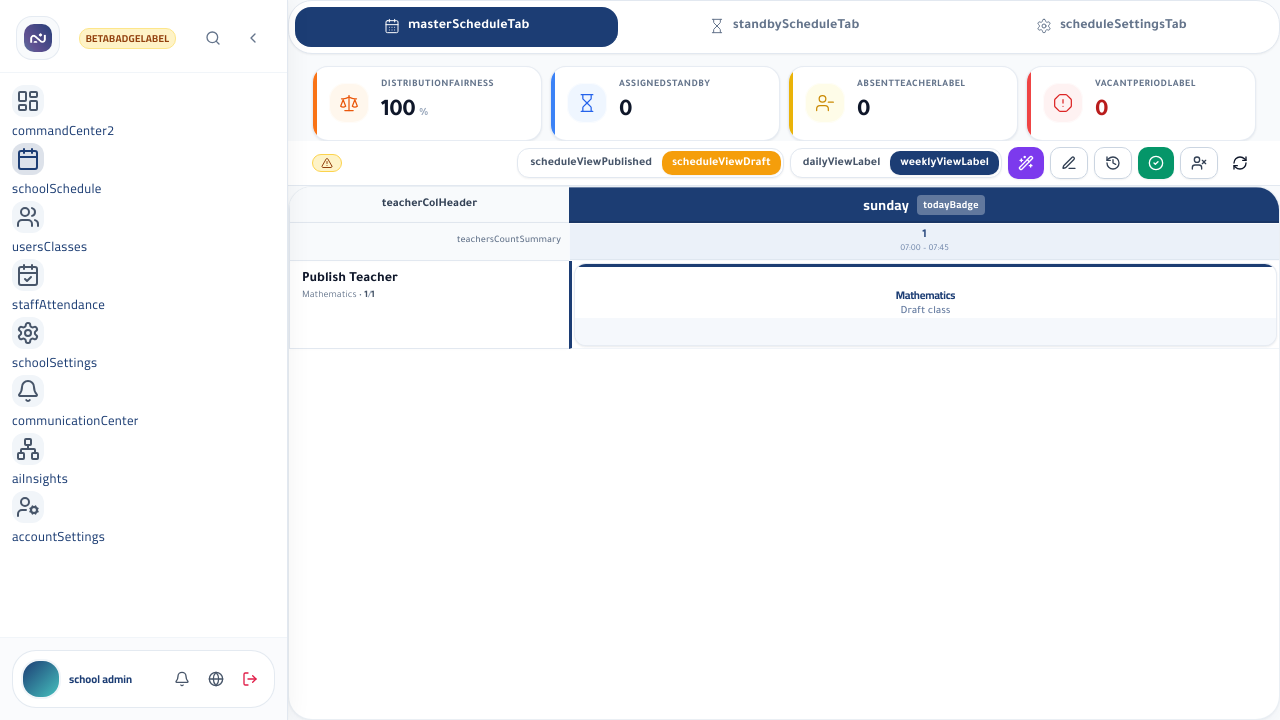
Test: publishes with medium weekly warnings, switches to published grid, and shows no blocker dialog
Check: the text "Draft class" is shown, box [900,305,950,319]
Click the button with test id "publish-schedule-btn" at coordinates (1156, 162), box [1138,146,1174,178]
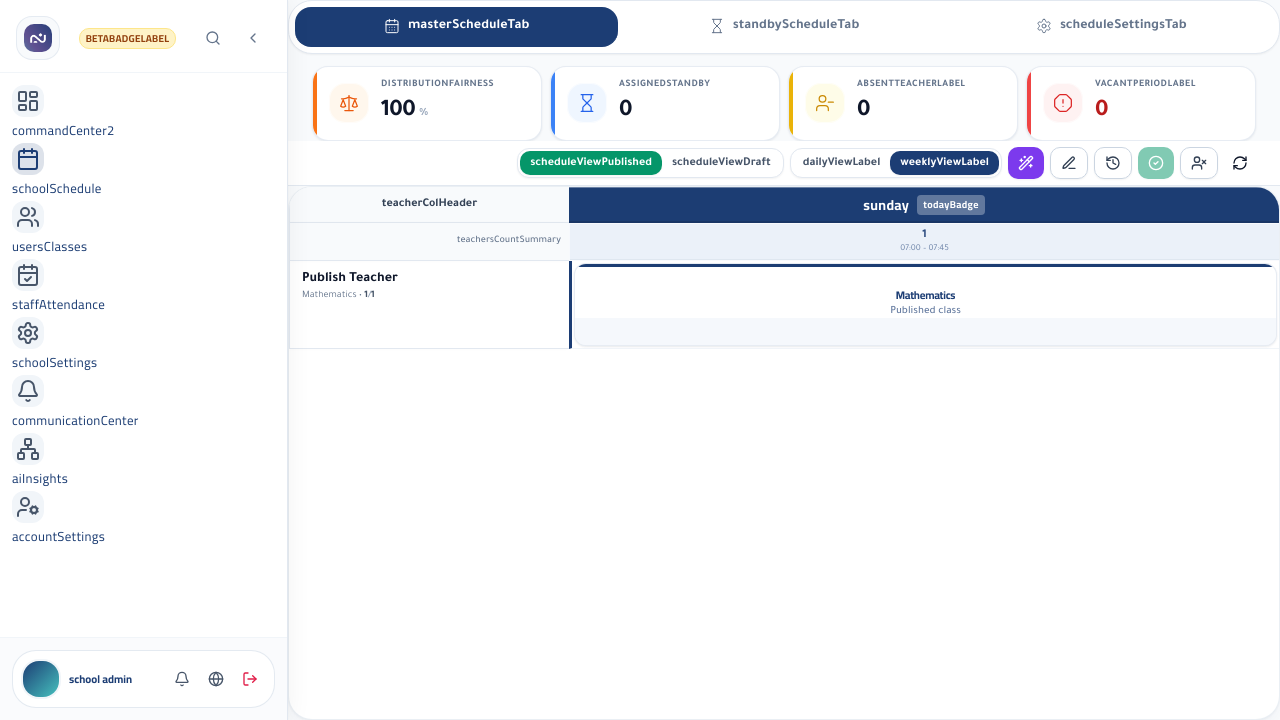
Check: the text "Published class" is shown, box [890,305,961,319]
